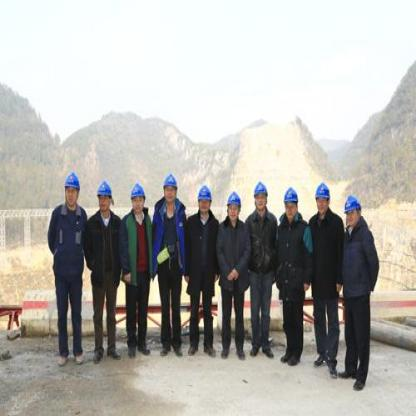helmet: (62, 169, 82, 207), (95, 176, 115, 214), (196, 180, 215, 217), (344, 191, 362, 230), (251, 179, 270, 215), (314, 181, 332, 219), (128, 181, 147, 215), (161, 170, 179, 204), (225, 186, 241, 222), (283, 185, 300, 217)
